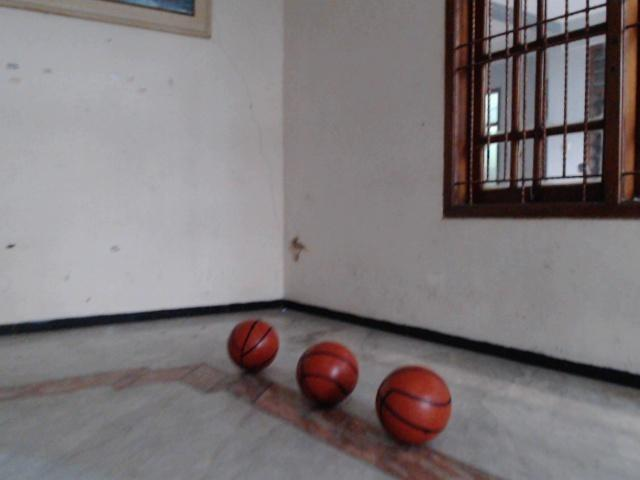Sports-Ball: (374, 363, 451, 446), (295, 343, 359, 407), (226, 313, 280, 374)
